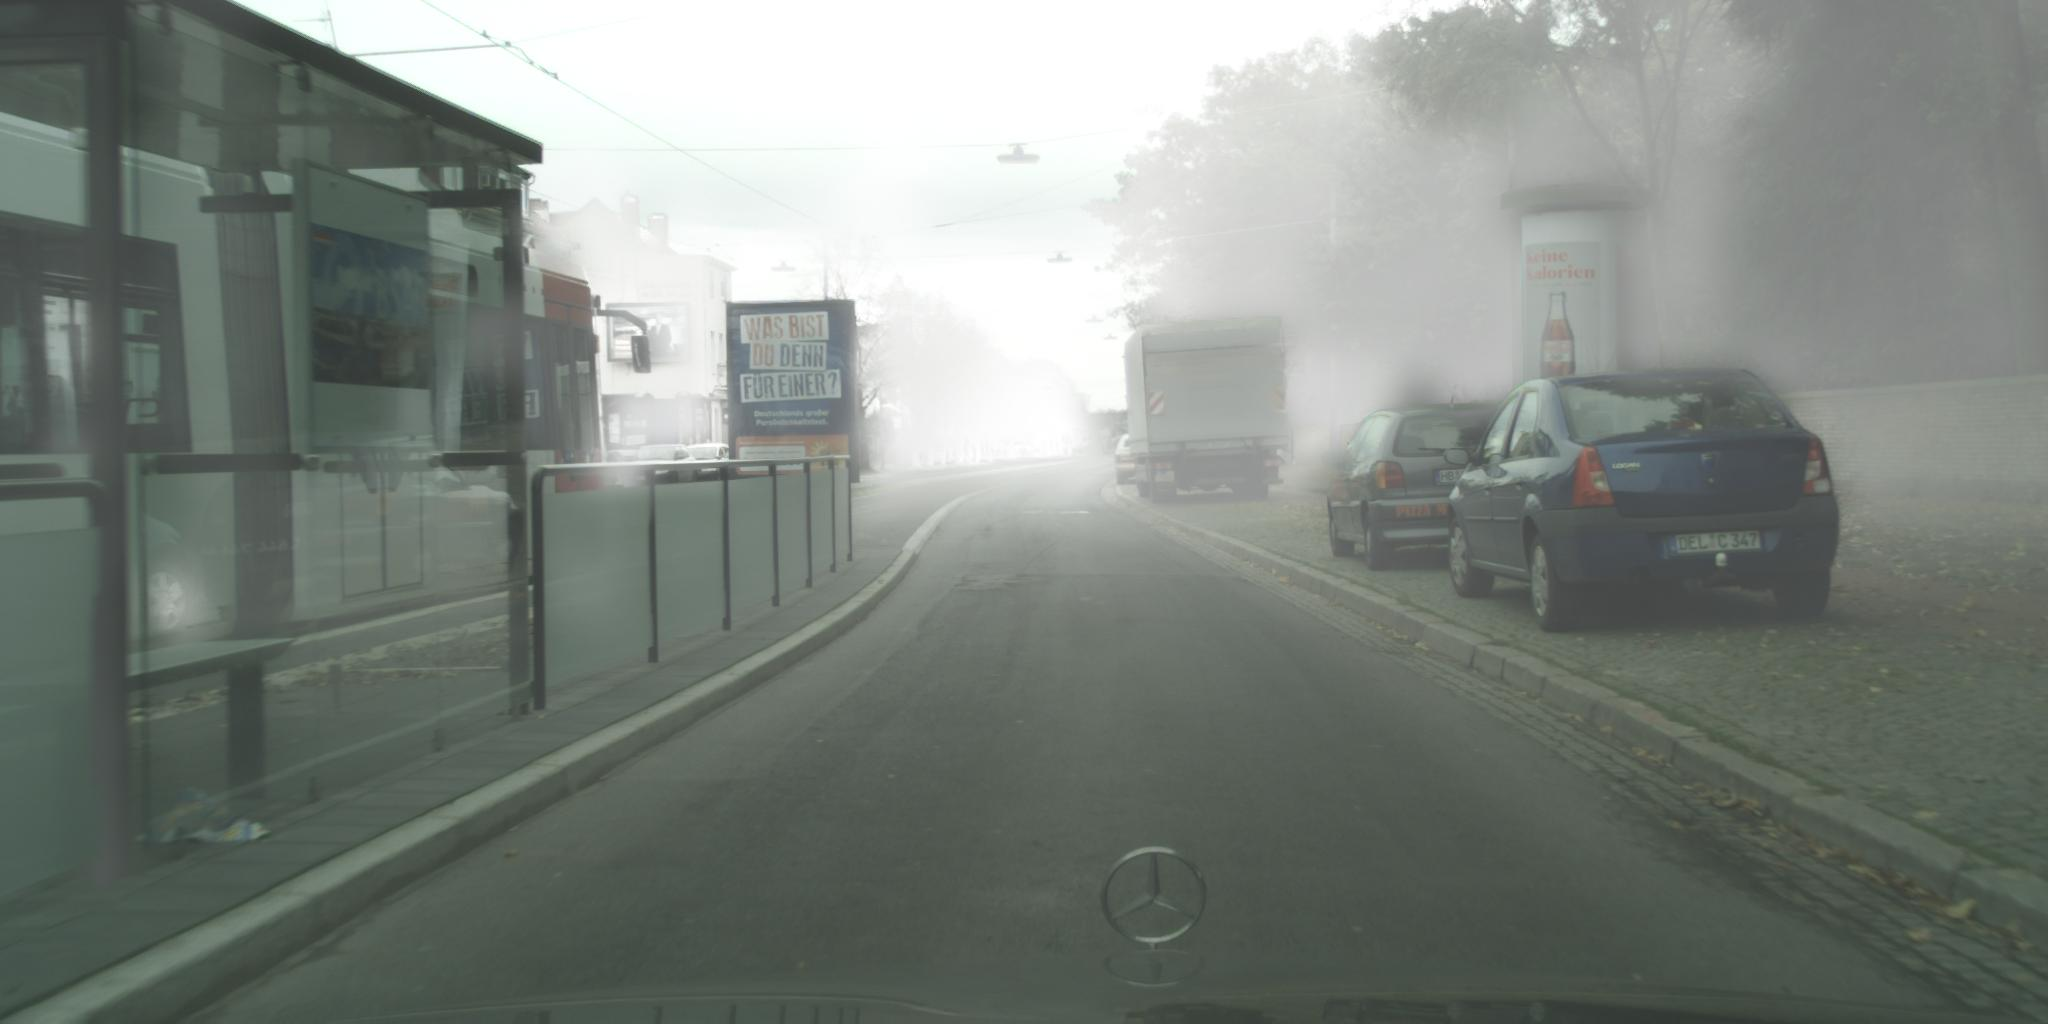car: (1445, 368, 1843, 635), (1322, 404, 1506, 572), (622, 445, 705, 498), (683, 443, 741, 495), (593, 451, 637, 498), (1115, 434, 1143, 486)
train: (1, 110, 654, 643)
truck: (1125, 316, 1290, 505)
